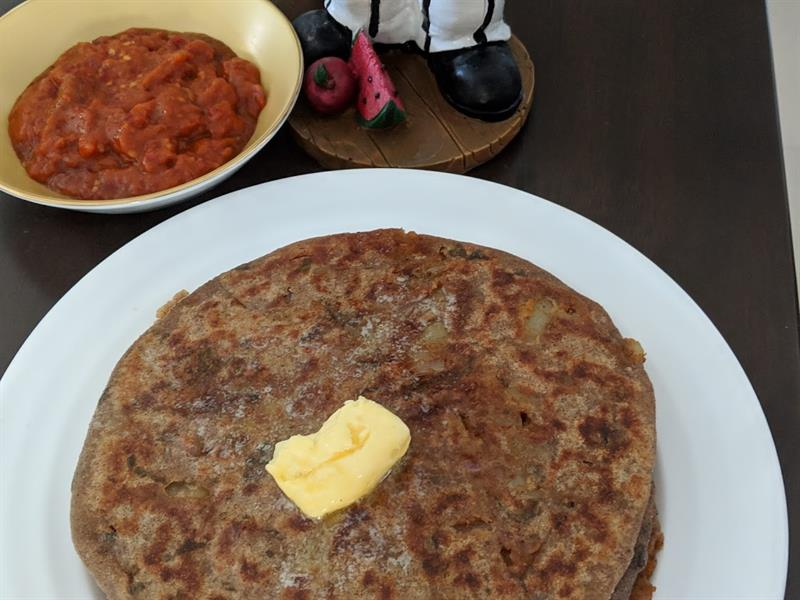aloo_paratha: (72, 232, 669, 600)
